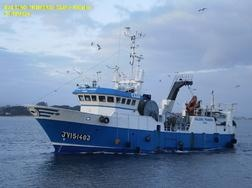otherboat: (23, 28, 235, 157)
